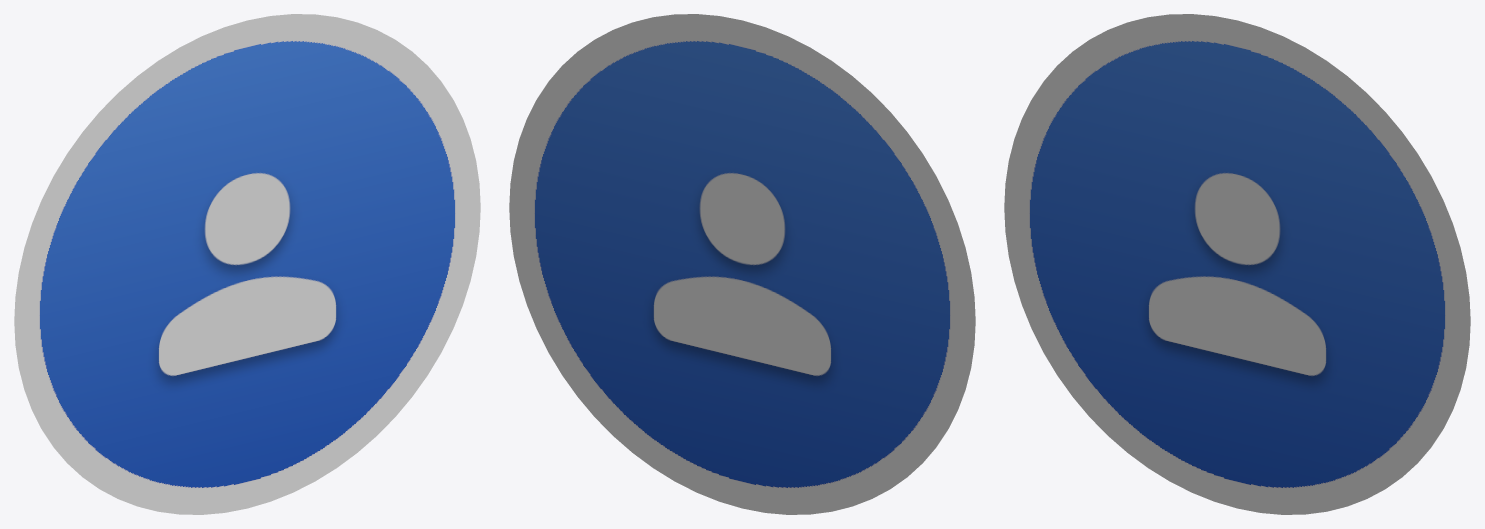
File: person.obj
3 views of the same model, side by side, from view 1: azimuth 30°, elevation 25°; view 2: azimuth 150°, elevation 25°; view 3: azimuth 330°, elevation 25° (orthographic).
Parts seen in each view (by area): view 1: badge; view 2: badge; view 3: badge.
Boxes of the visible parts, box(x1,y1,x2,y2) form: badge: box(14, 14, 480, 514); badge: box(509, 14, 975, 514); badge: box(1004, 14, 1470, 514).
Size of the model in its own units: 1 by 1 by 0.
Materials: 1 (1 with a texture image).
